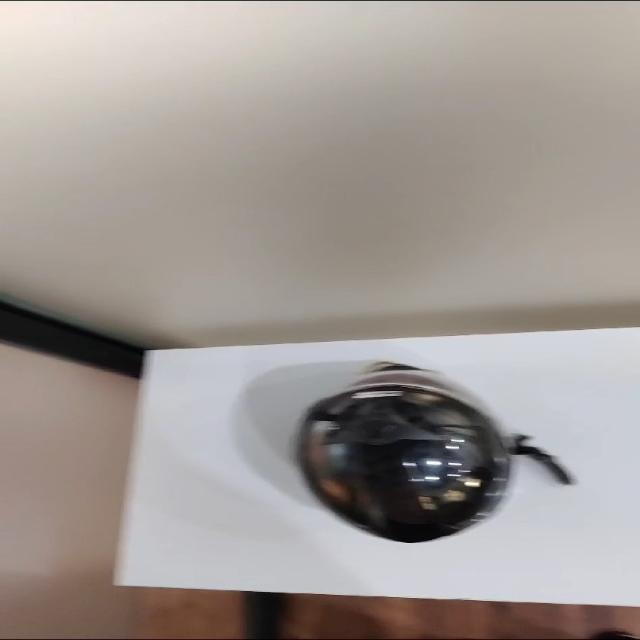helmet: (296, 362, 571, 541)
